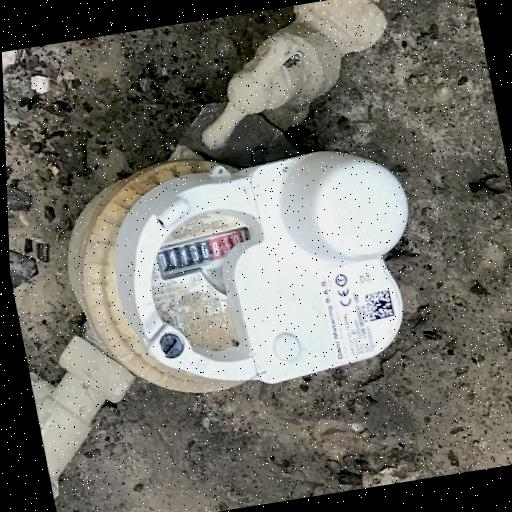0: (154, 246, 171, 272)
1: (175, 243, 191, 268), (165, 244, 180, 269)
3: (186, 240, 202, 265)
5: (217, 233, 235, 257)
6: (196, 238, 212, 262)
8: (207, 236, 223, 260)
border_water_meter_number: (150, 225, 251, 275)
